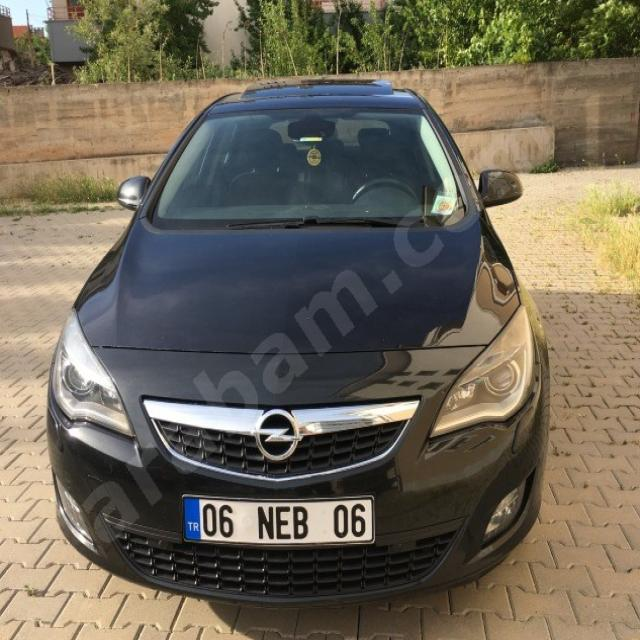license_plate: (181, 496, 374, 543)
